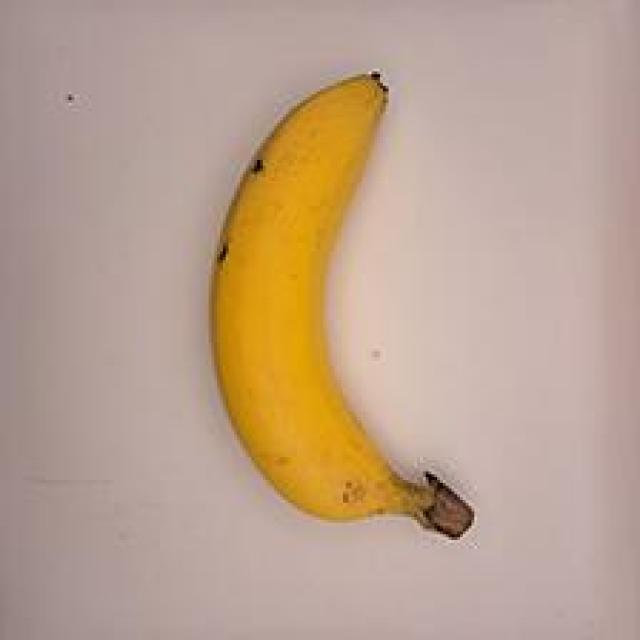Ripe: (141, 55, 518, 562)
